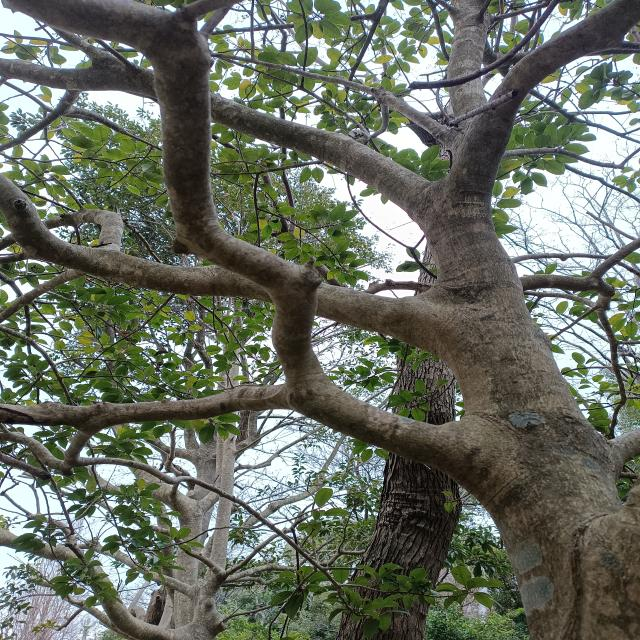Branch: (1, 0, 325, 384), (0, 175, 444, 358), (85, 53, 430, 214), (452, 0, 640, 201), (285, 373, 459, 466), (446, 0, 496, 133)
Twig: (214, 53, 465, 176), (0, 382, 287, 432), (0, 208, 123, 252), (0, 90, 84, 151), (0, 268, 87, 323), (0, 60, 84, 91), (0, 253, 36, 265)
